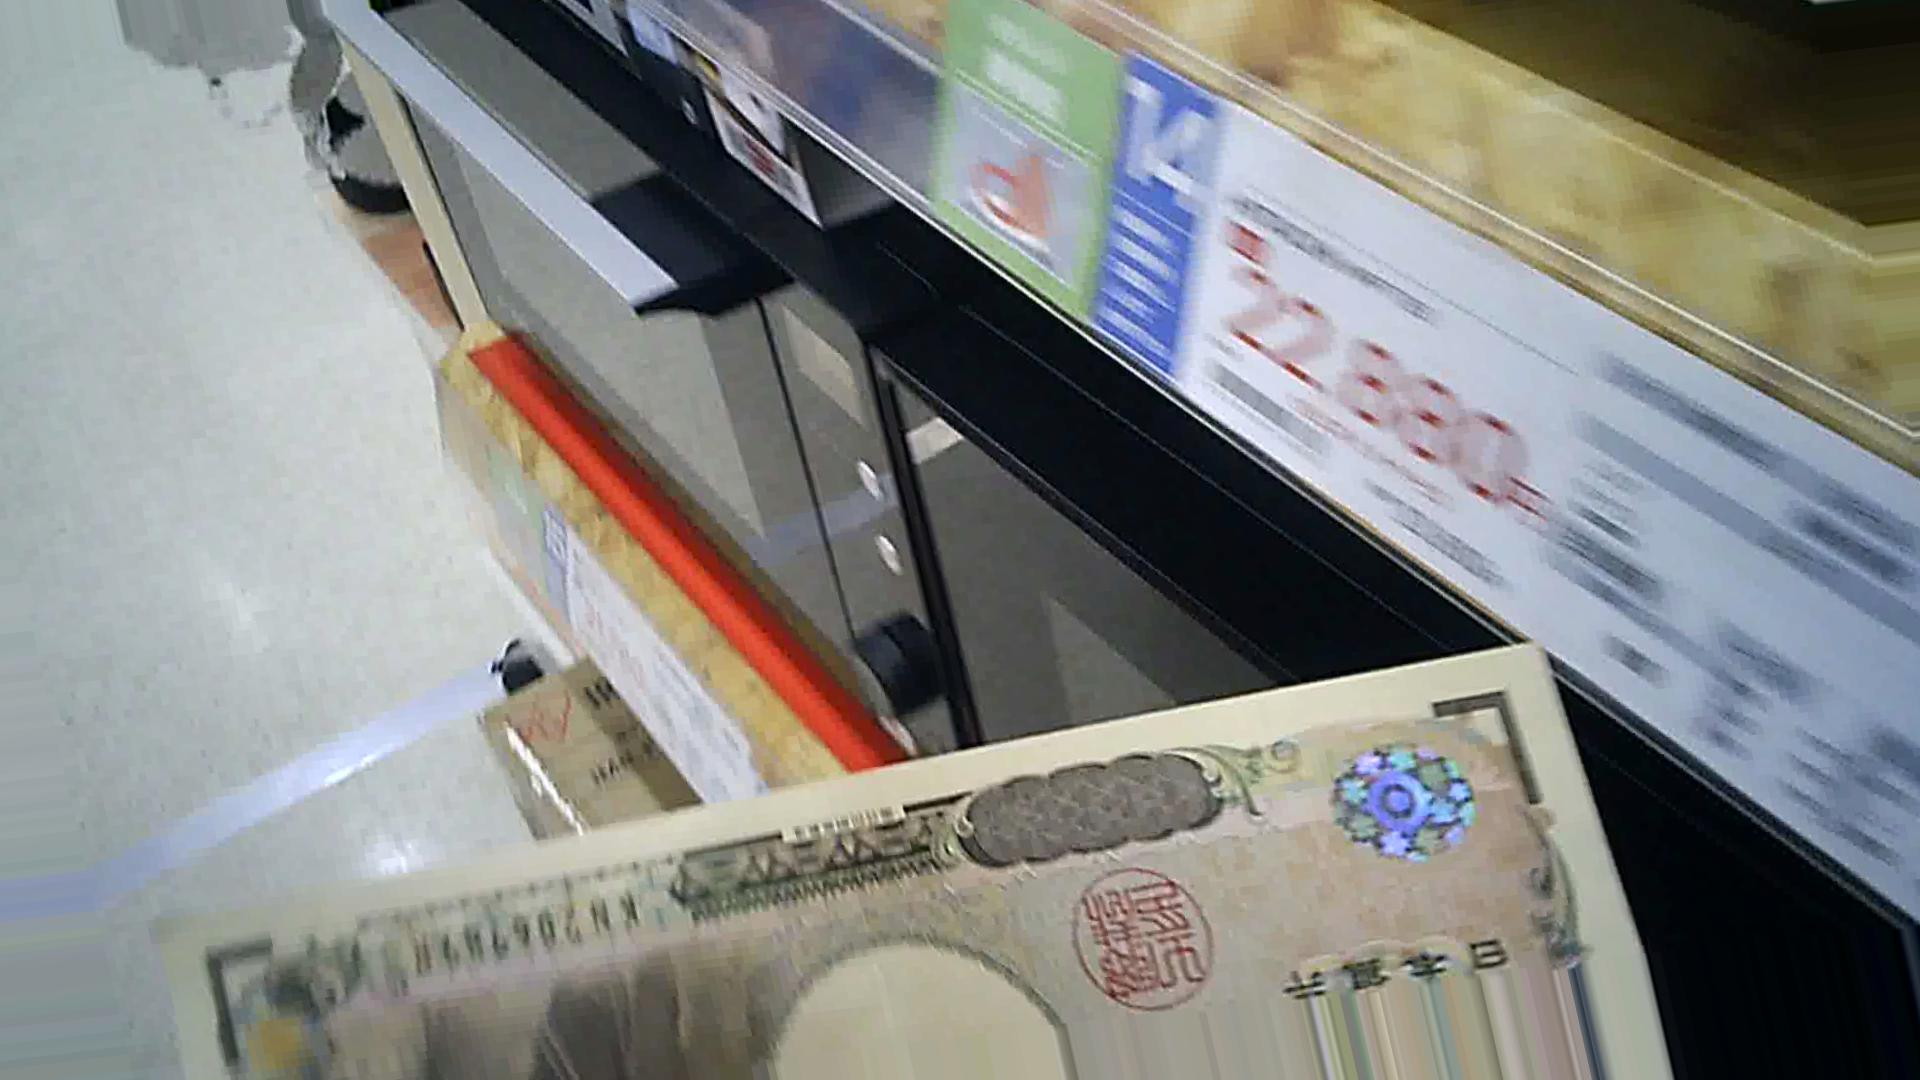10,000 Yen: (162, 618, 1642, 1048)
